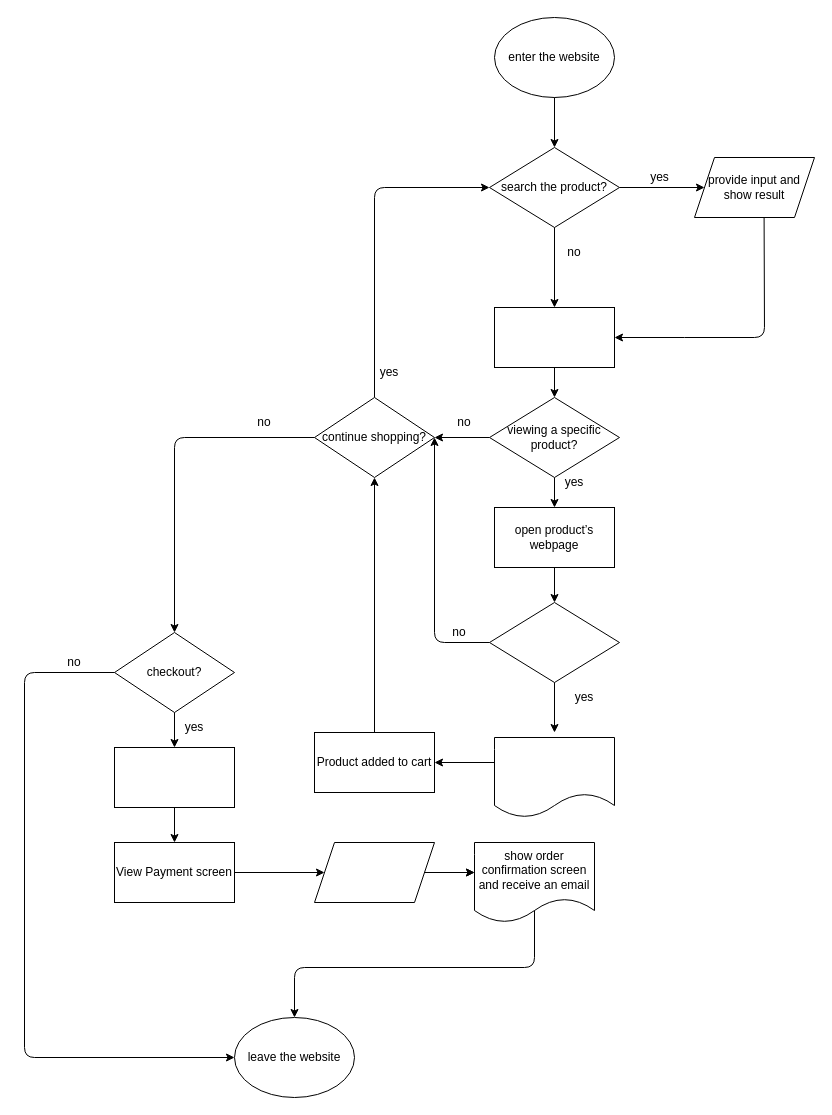
The diagram is 832 pixels wide and 1115 high, and some of its shapes have lost their labels. Here are the shapes that lost their labels. From the top down, the centre of each, then its label:
pixel 554 337: view products
pixel 554 642: added to cart
pixel 174 777: View Cart screen
pixel 554 777: added to cart confirmation
pixel 374 872: input Payment information
